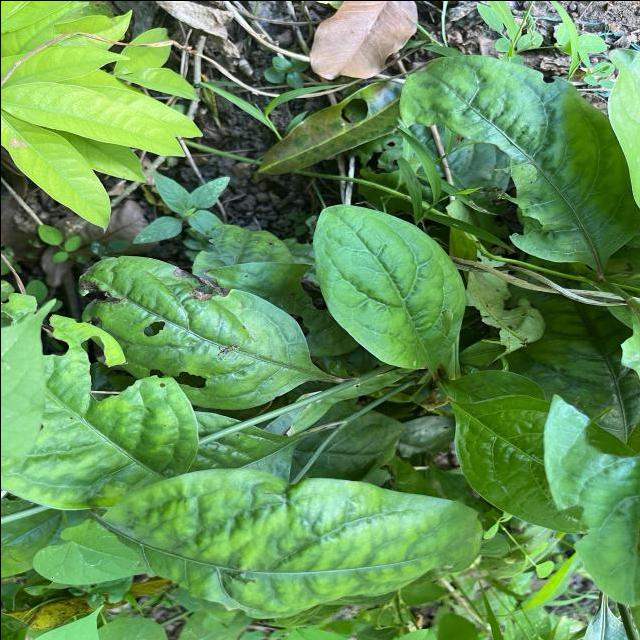Plumbago indica: (85, 462, 489, 624), (53, 250, 316, 418), (307, 200, 472, 373)
